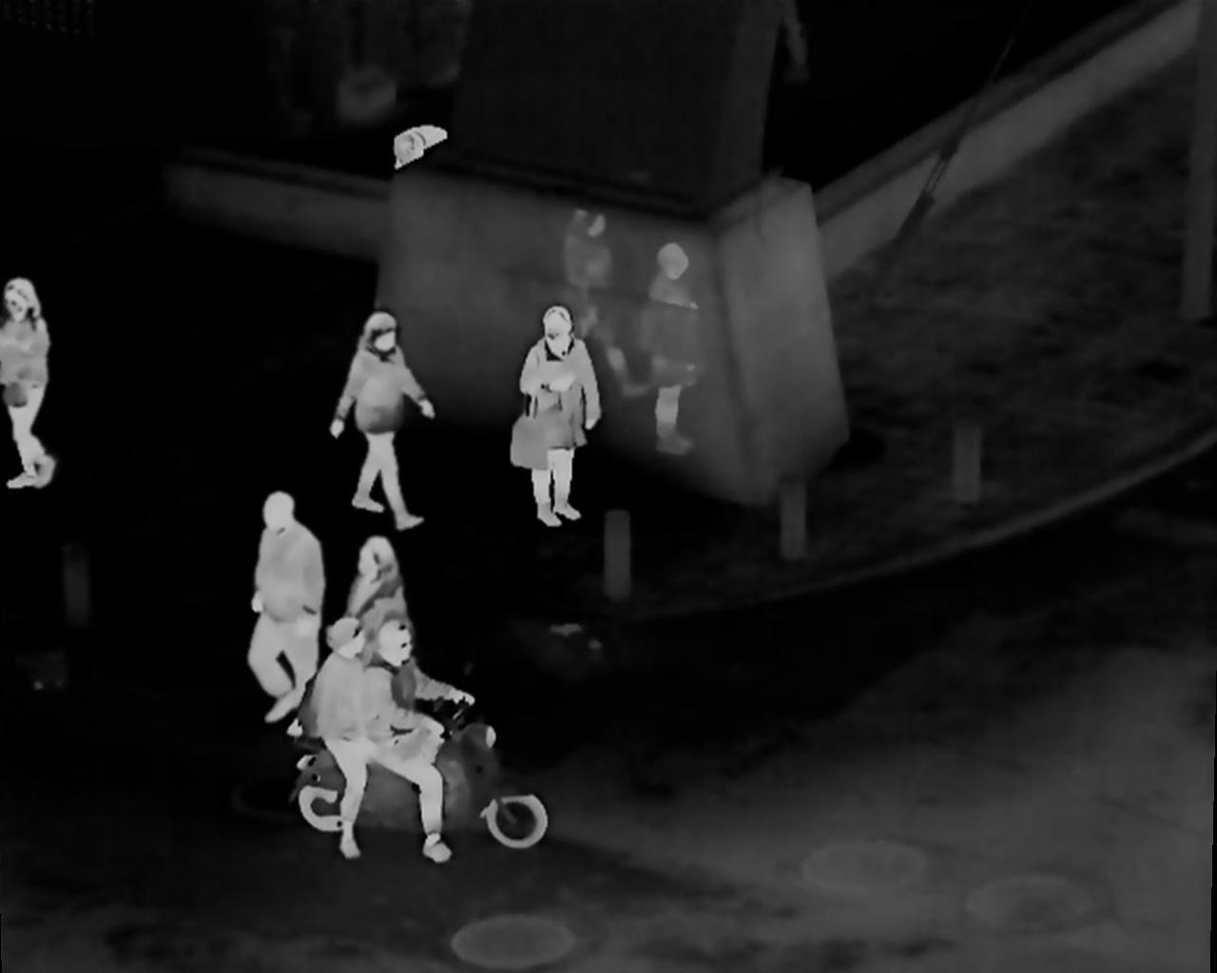person: (246, 495, 336, 754), (361, 626, 453, 856), (338, 312, 425, 524), (323, 615, 383, 864), (519, 307, 585, 526), (357, 536, 416, 662)
